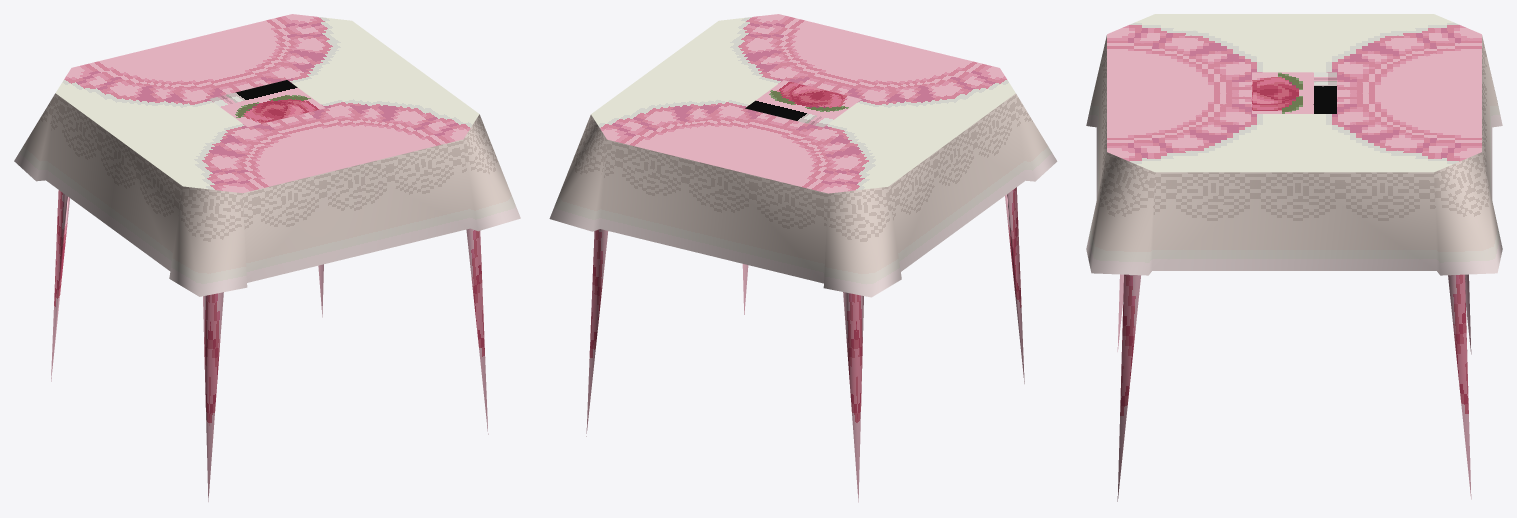
3 views of the same model, side by side, from view 1: azimuth 30°, elevation 25°; view 2: azimuth 150°, elevation 25°; view 3: azimuth 270°, elevation 25° (orthographic). The views are drawn at different scales.
Parts seen in each view (by area): view 1: 3610kg_21_ta0; view 2: 3610kg_21_ta0; view 3: 3610kg_21_ta0.
Part boxes in pixels (x1,y1,x2,y2): 3610kg_21_ta0: (14, 14, 520, 501); 3610kg_21_ta0: (549, 14, 1057, 502); 3610kg_21_ta0: (1086, 14, 1502, 501).
Size of the model in its own units: 2 by 1.78 by 2.
Materials: 3 (3 with a texture image).
